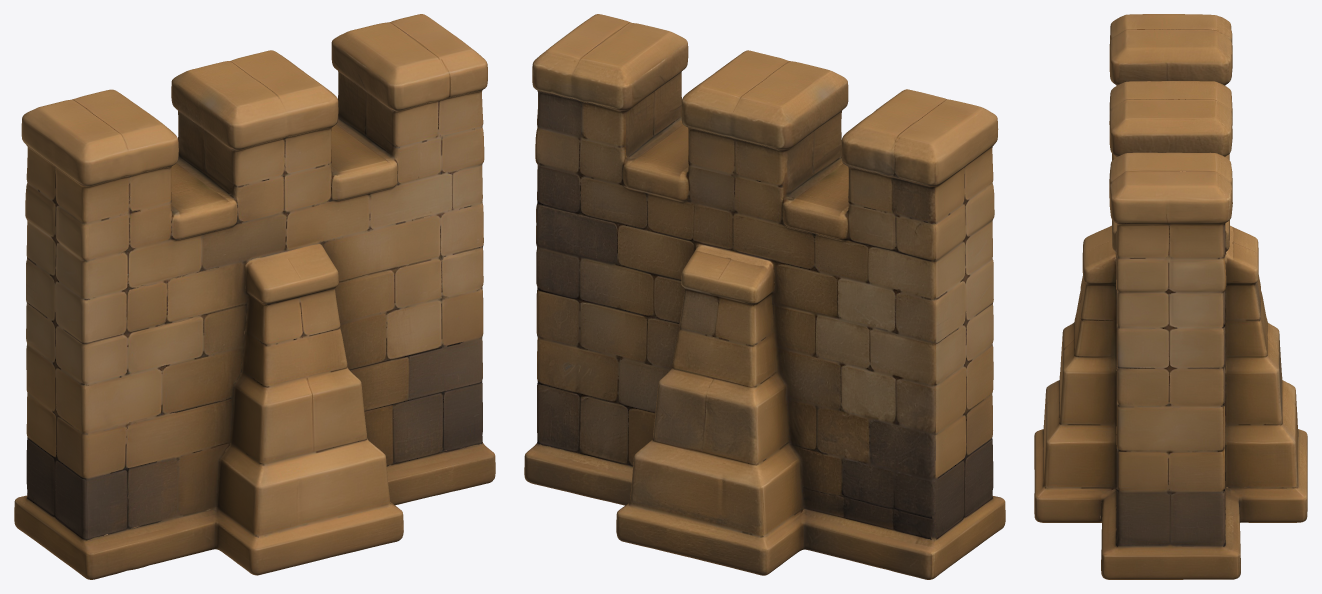
The model's file is ck_wall3.glb.
3 renders of one model, left to right at view 1: azimuth 30°, elevation 25°; view 2: azimuth 150°, elevation 25°; view 3: azimuth 270°, elevation 25°, orthographic. The views are drawn at different scales.
Visible parts, largest first — view 1: ck_wall3; view 2: ck_wall3; view 3: ck_wall3.
Boxes of the visible parts, x1,y1,x2,y2 form: ck_wall3: (14, 14, 495, 579); ck_wall3: (524, 14, 1005, 579); ck_wall3: (1034, 14, 1307, 579).
Bounding box in the file's own units: 1.97 × 1.97 × 1.25.
1 material, 1 textured.
